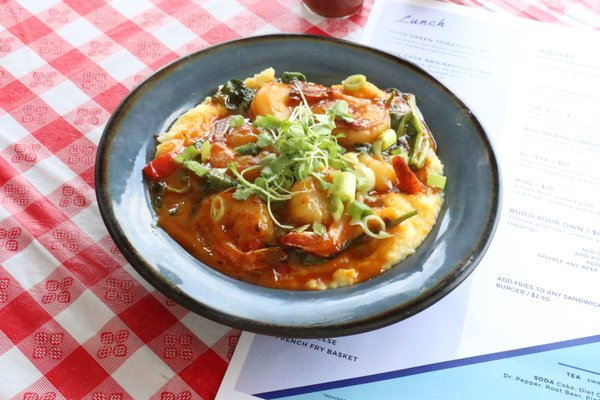curry: (1, 0, 590, 397)
sandwich: (145, 66, 447, 291)
